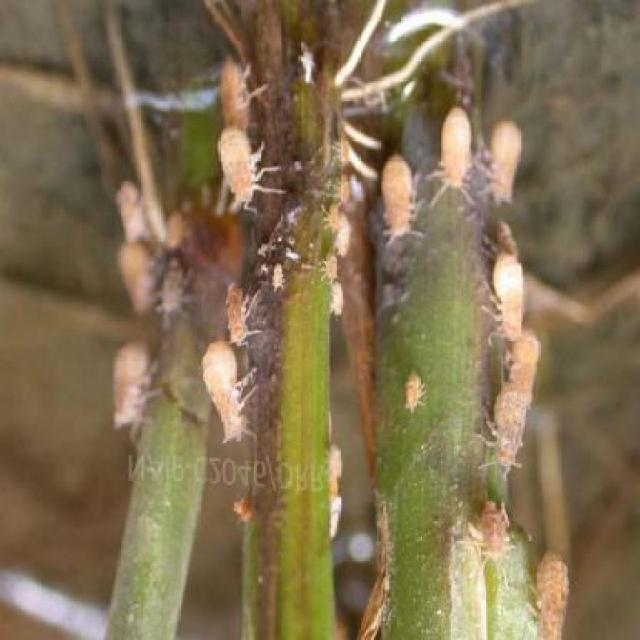brown-planthopper: (201, 342, 248, 442), (375, 149, 420, 243), (108, 335, 148, 433), (532, 547, 570, 640), (488, 249, 526, 342), (436, 101, 473, 194), (217, 129, 260, 206), (490, 380, 524, 474), (488, 116, 524, 201), (473, 497, 512, 565), (222, 280, 250, 338), (402, 371, 424, 418), (334, 128, 351, 167), (320, 248, 338, 282), (267, 264, 285, 296), (323, 204, 342, 233), (331, 285, 343, 320)
